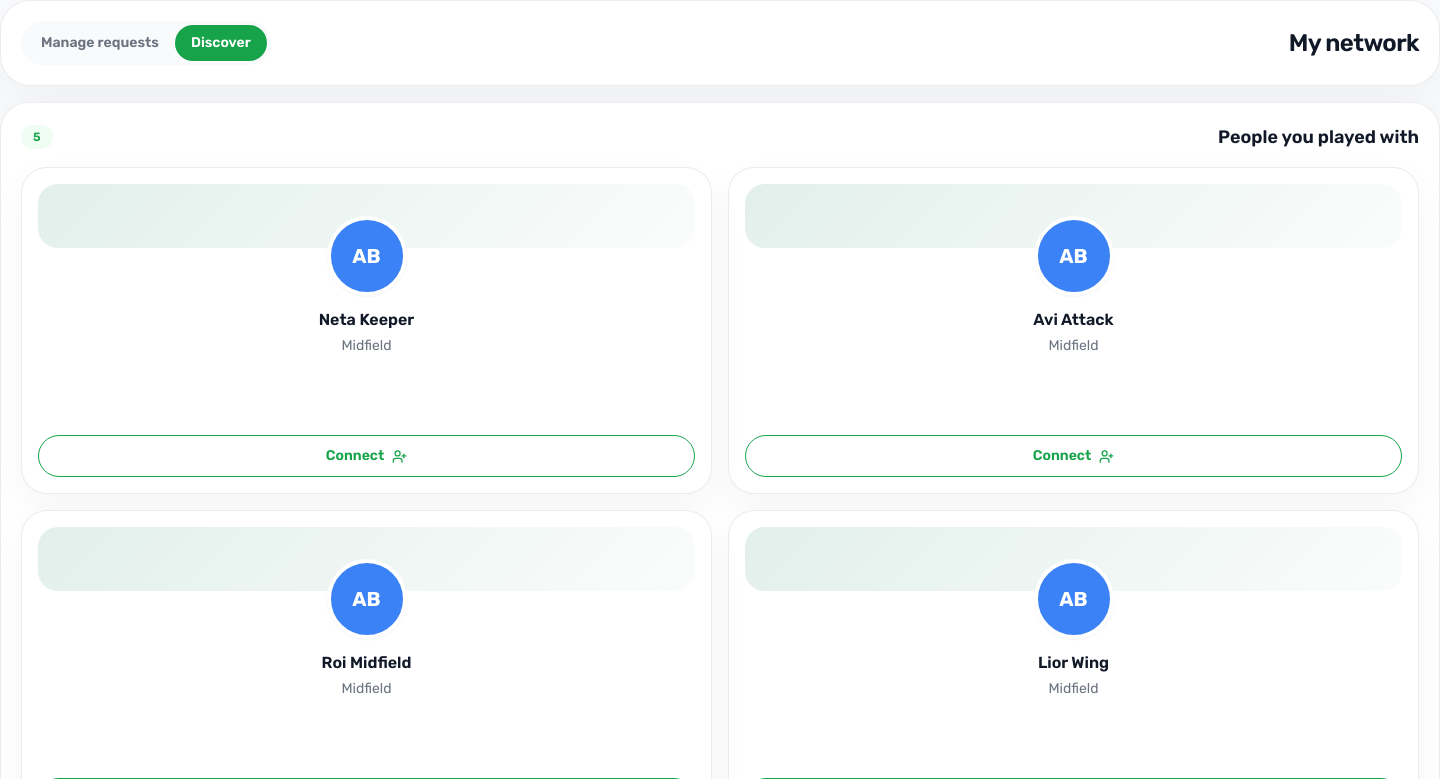
MyNetworkPage › shows request management tabs and keeps existing actions working
The width and height of the screenshot is (1440, 779).
Click the button "Manage requests": (100, 43) x1=25 y1=25 x2=175 y2=61
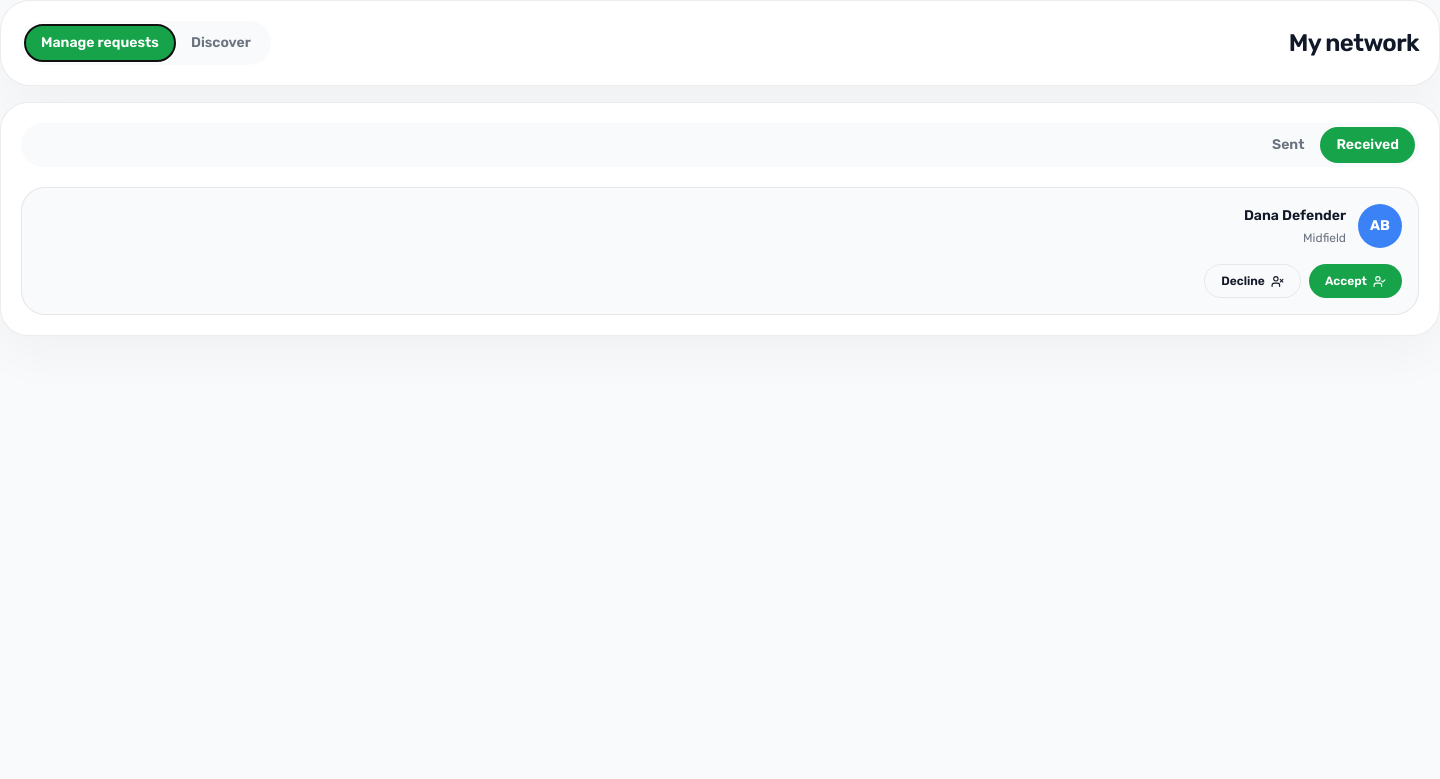
Check: the text "Dana Defender" is shown, box x1=1244 y1=207 x2=1346 y2=224
Click the button "Accept": (1355, 281) x1=1309 y1=264 x2=1402 y2=298
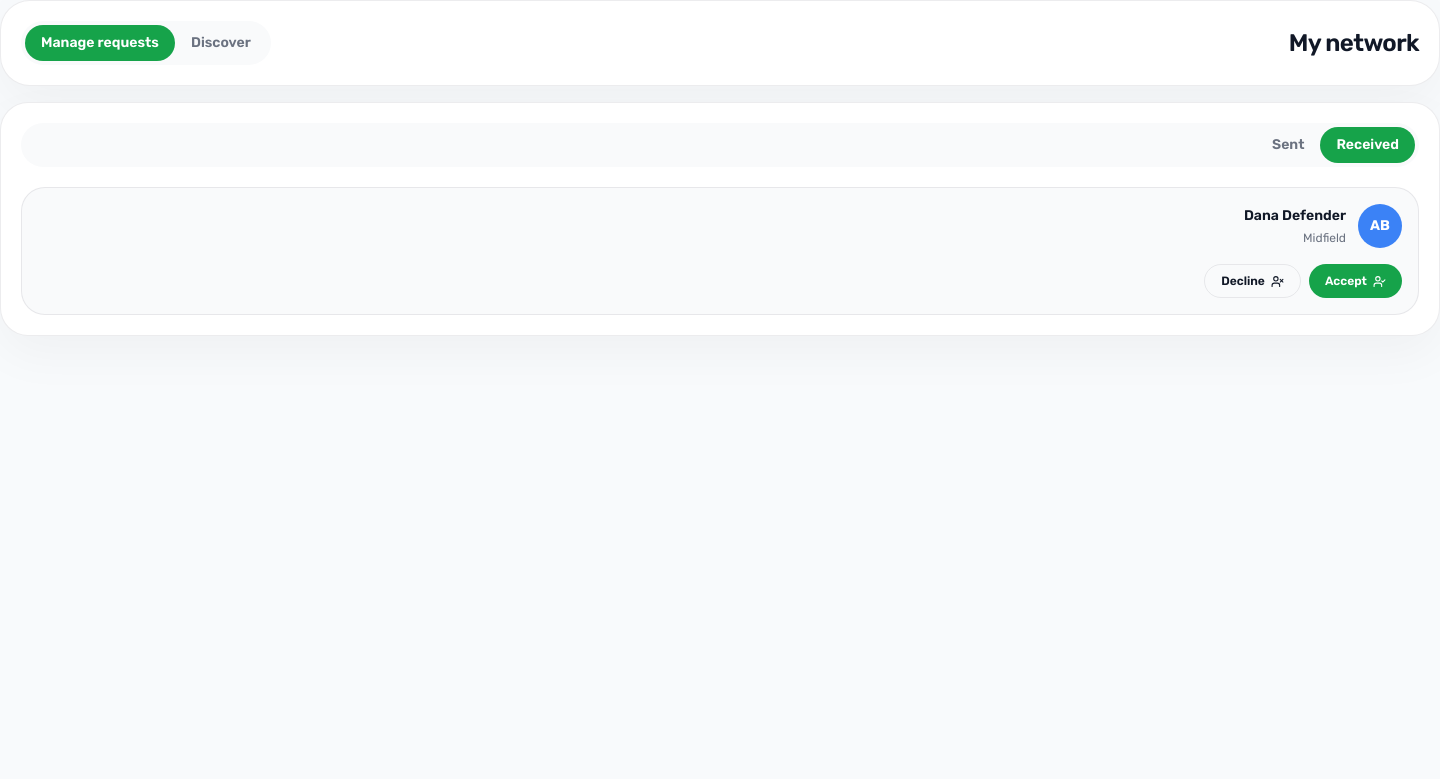
Click the button "Sent": (1288, 145) x1=1256 y1=127 x2=1320 y2=163
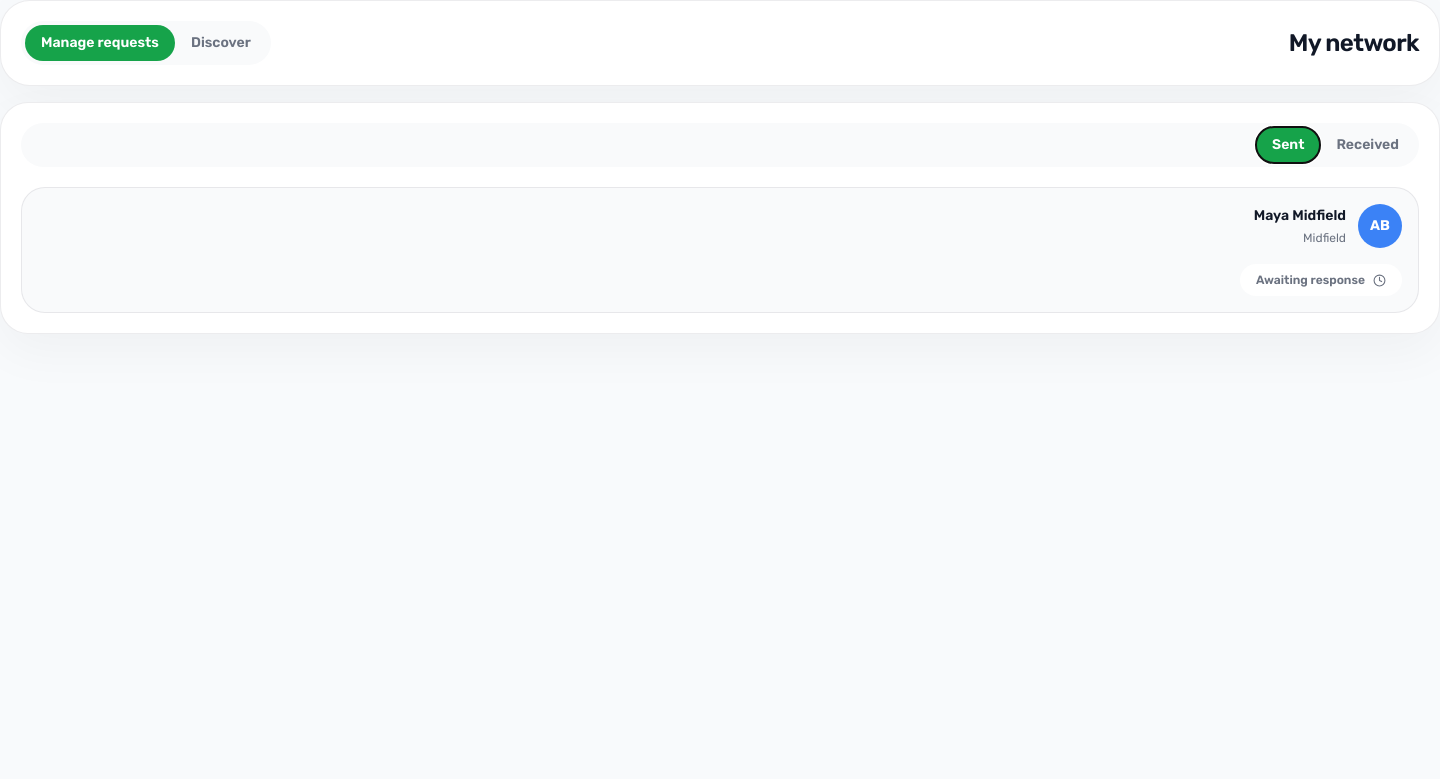
Check: the text "Maya Midfield" is shown, box x1=1254 y1=207 x2=1346 y2=224
Check: the text "Awaiting response" is shown, box x1=1240 y1=264 x2=1402 y2=296
